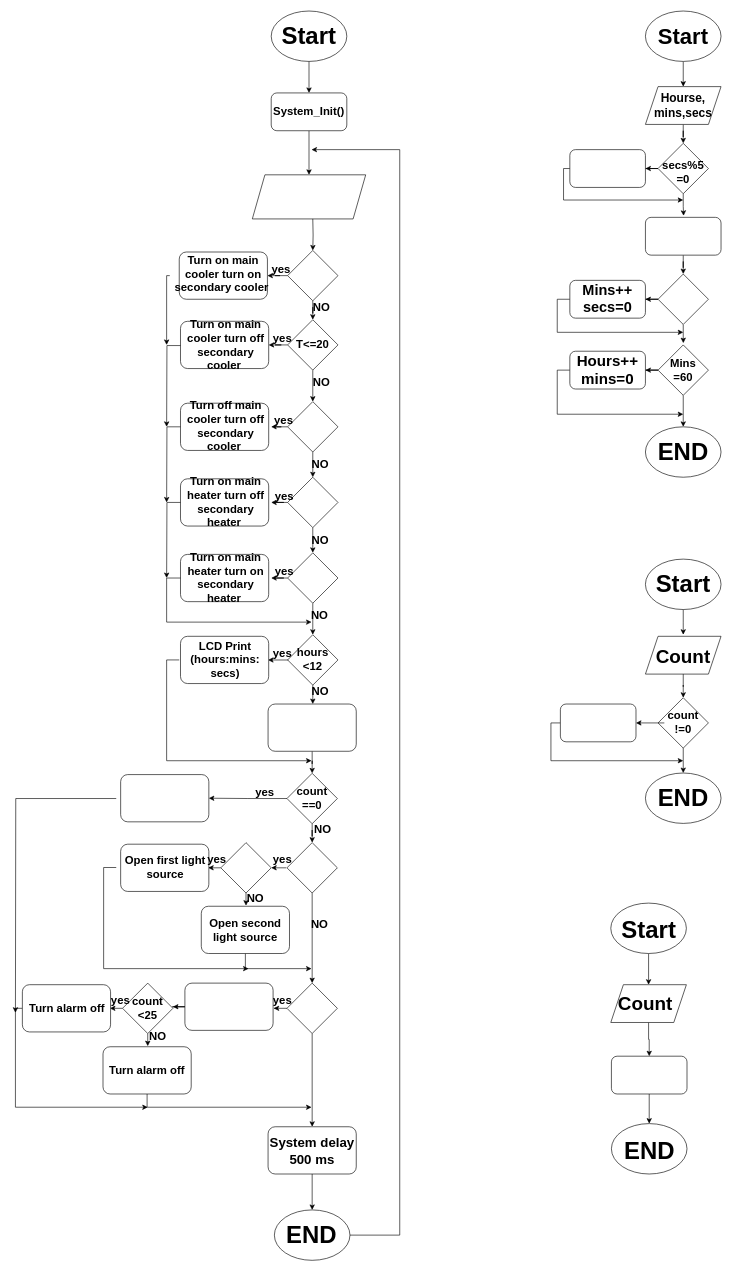
This 732x1271 diagram has some shape labels left out. Each missing label, with the centre of its shape:
"Close all light source" goes at (x=164, y=798).
"count <=10" goes at (x=245, y=867).
"count <=20" goes at (x=311, y=867).
"count >20" goes at (x=311, y=1008).
"Count++" goes at (x=649, y=1075).
"Count--" goes at (x=598, y=722).
"Mid=hours-12 LCD Print(mid:mins: secs)" goes at (x=311, y=727).
"Open third light source" goes at (x=228, y=1006).
"Secs =60" goes at (x=682, y=298).
"Secs++" goes at (x=683, y=236).
"Secs,mins, Hours,mid,count,T," goes at (x=309, y=196).
"T<=10" goes at (x=312, y=275).
"T<=30" goes at (x=312, y=426).
"T<=40" goes at (x=312, y=502).
"T<=50" goes at (x=312, y=577).
"T= Sensor Read" goes at (x=607, y=168).
